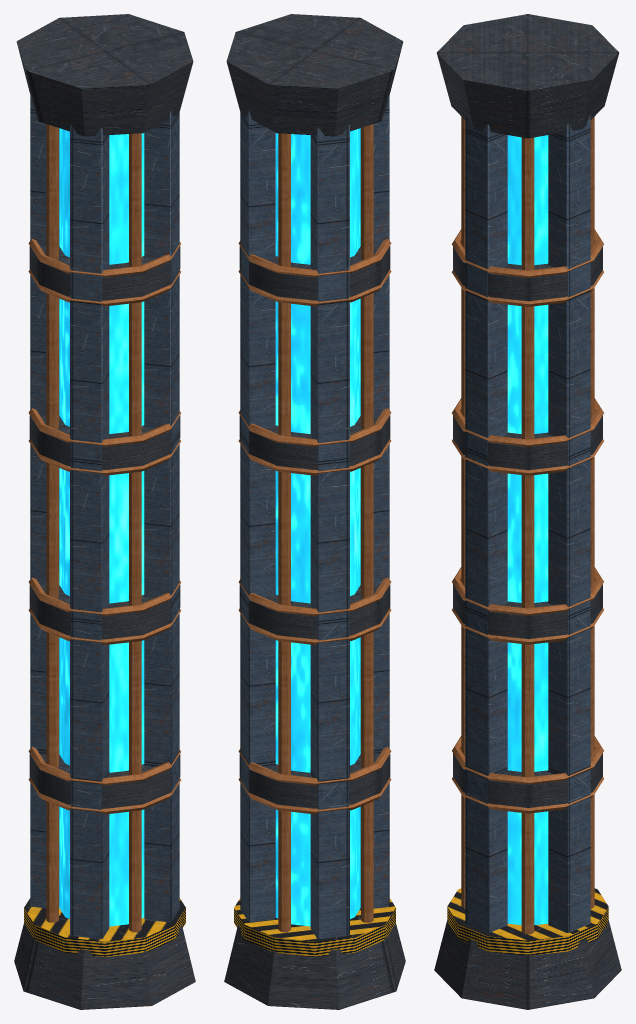
File: reactor-cooling-tower-tall.glb
3 renders of one model, left to right at view 1: azimuth 30°, elevation 25°; view 2: azimuth 150°, elevation 25°; view 3: azimuth 270°, elevation 25°, orthographic.
Visible parts, largest first — view 1: torre_reactor_alta; view 2: torre_reactor_alta; view 3: torre_reactor_alta.
Part boxes in pixels (box(x1,y1,x2,y2)): torre_reactor_alta: box(14, 14, 195, 1009); torre_reactor_alta: box(224, 14, 405, 1009); torre_reactor_alta: box(434, 14, 621, 1009).
Bounding box in the file's own units: 1.33 × 7.2 × 1.33.
5 materials, 5 textured.
